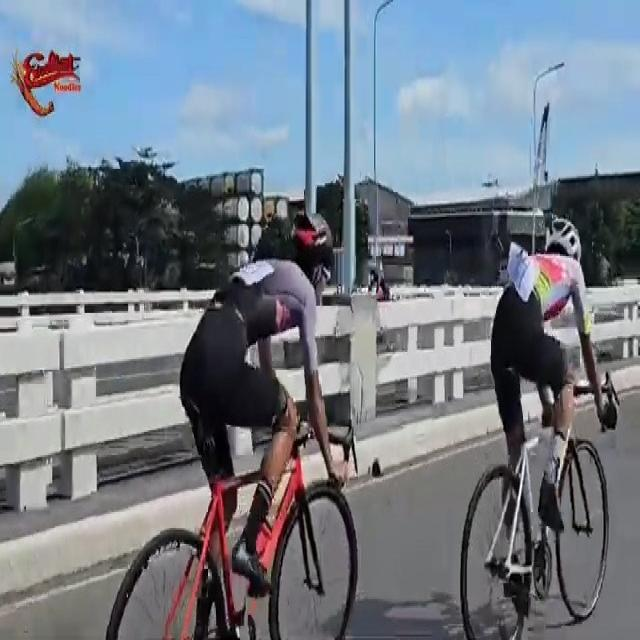bike: (103, 207, 364, 640), (455, 216, 618, 640)
